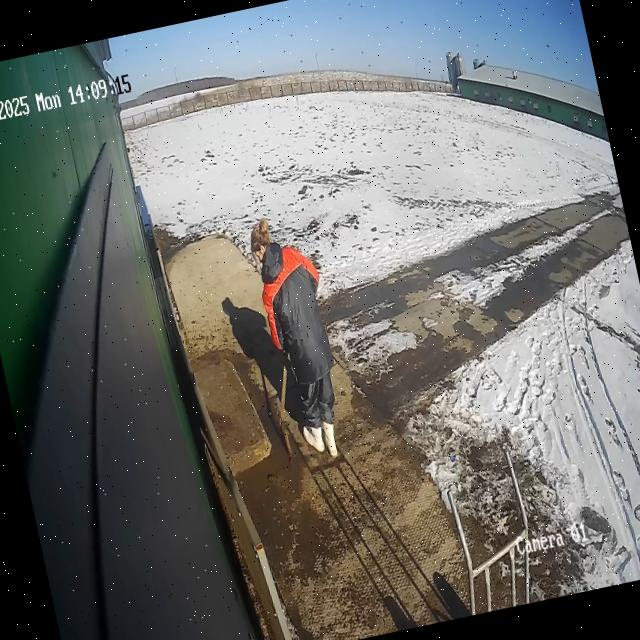Red uniform: (248, 232, 351, 438)
